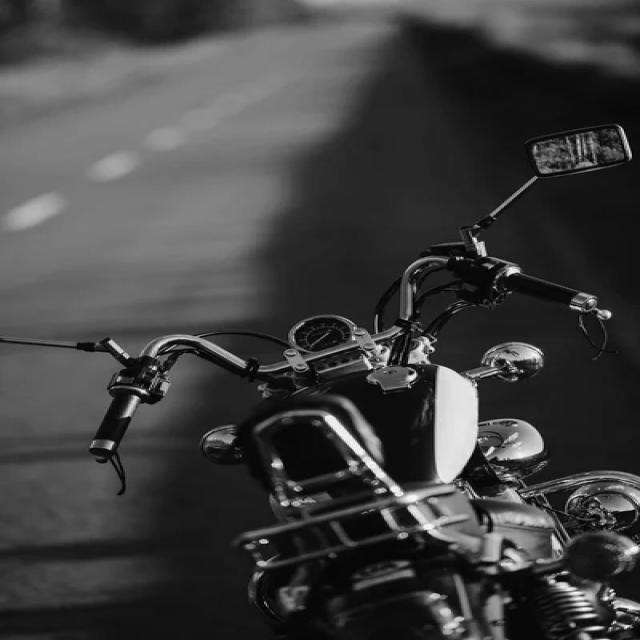Motorcycle: (90, 245, 640, 640)
